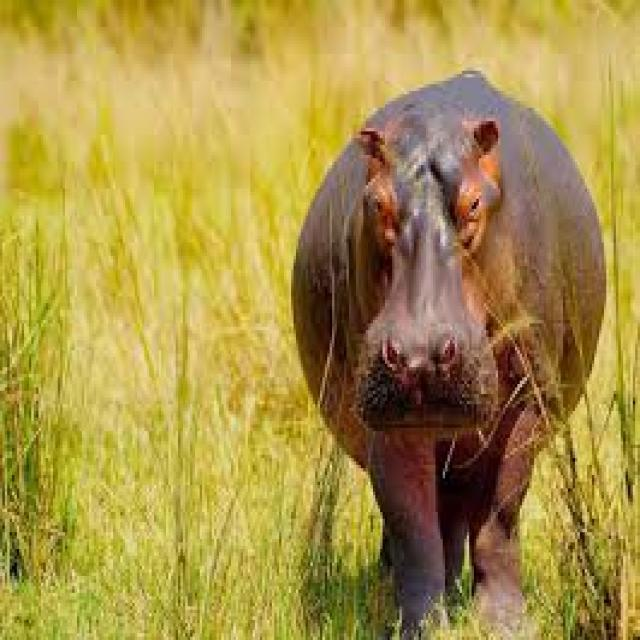Hippopotamus: (290, 64, 606, 626)
